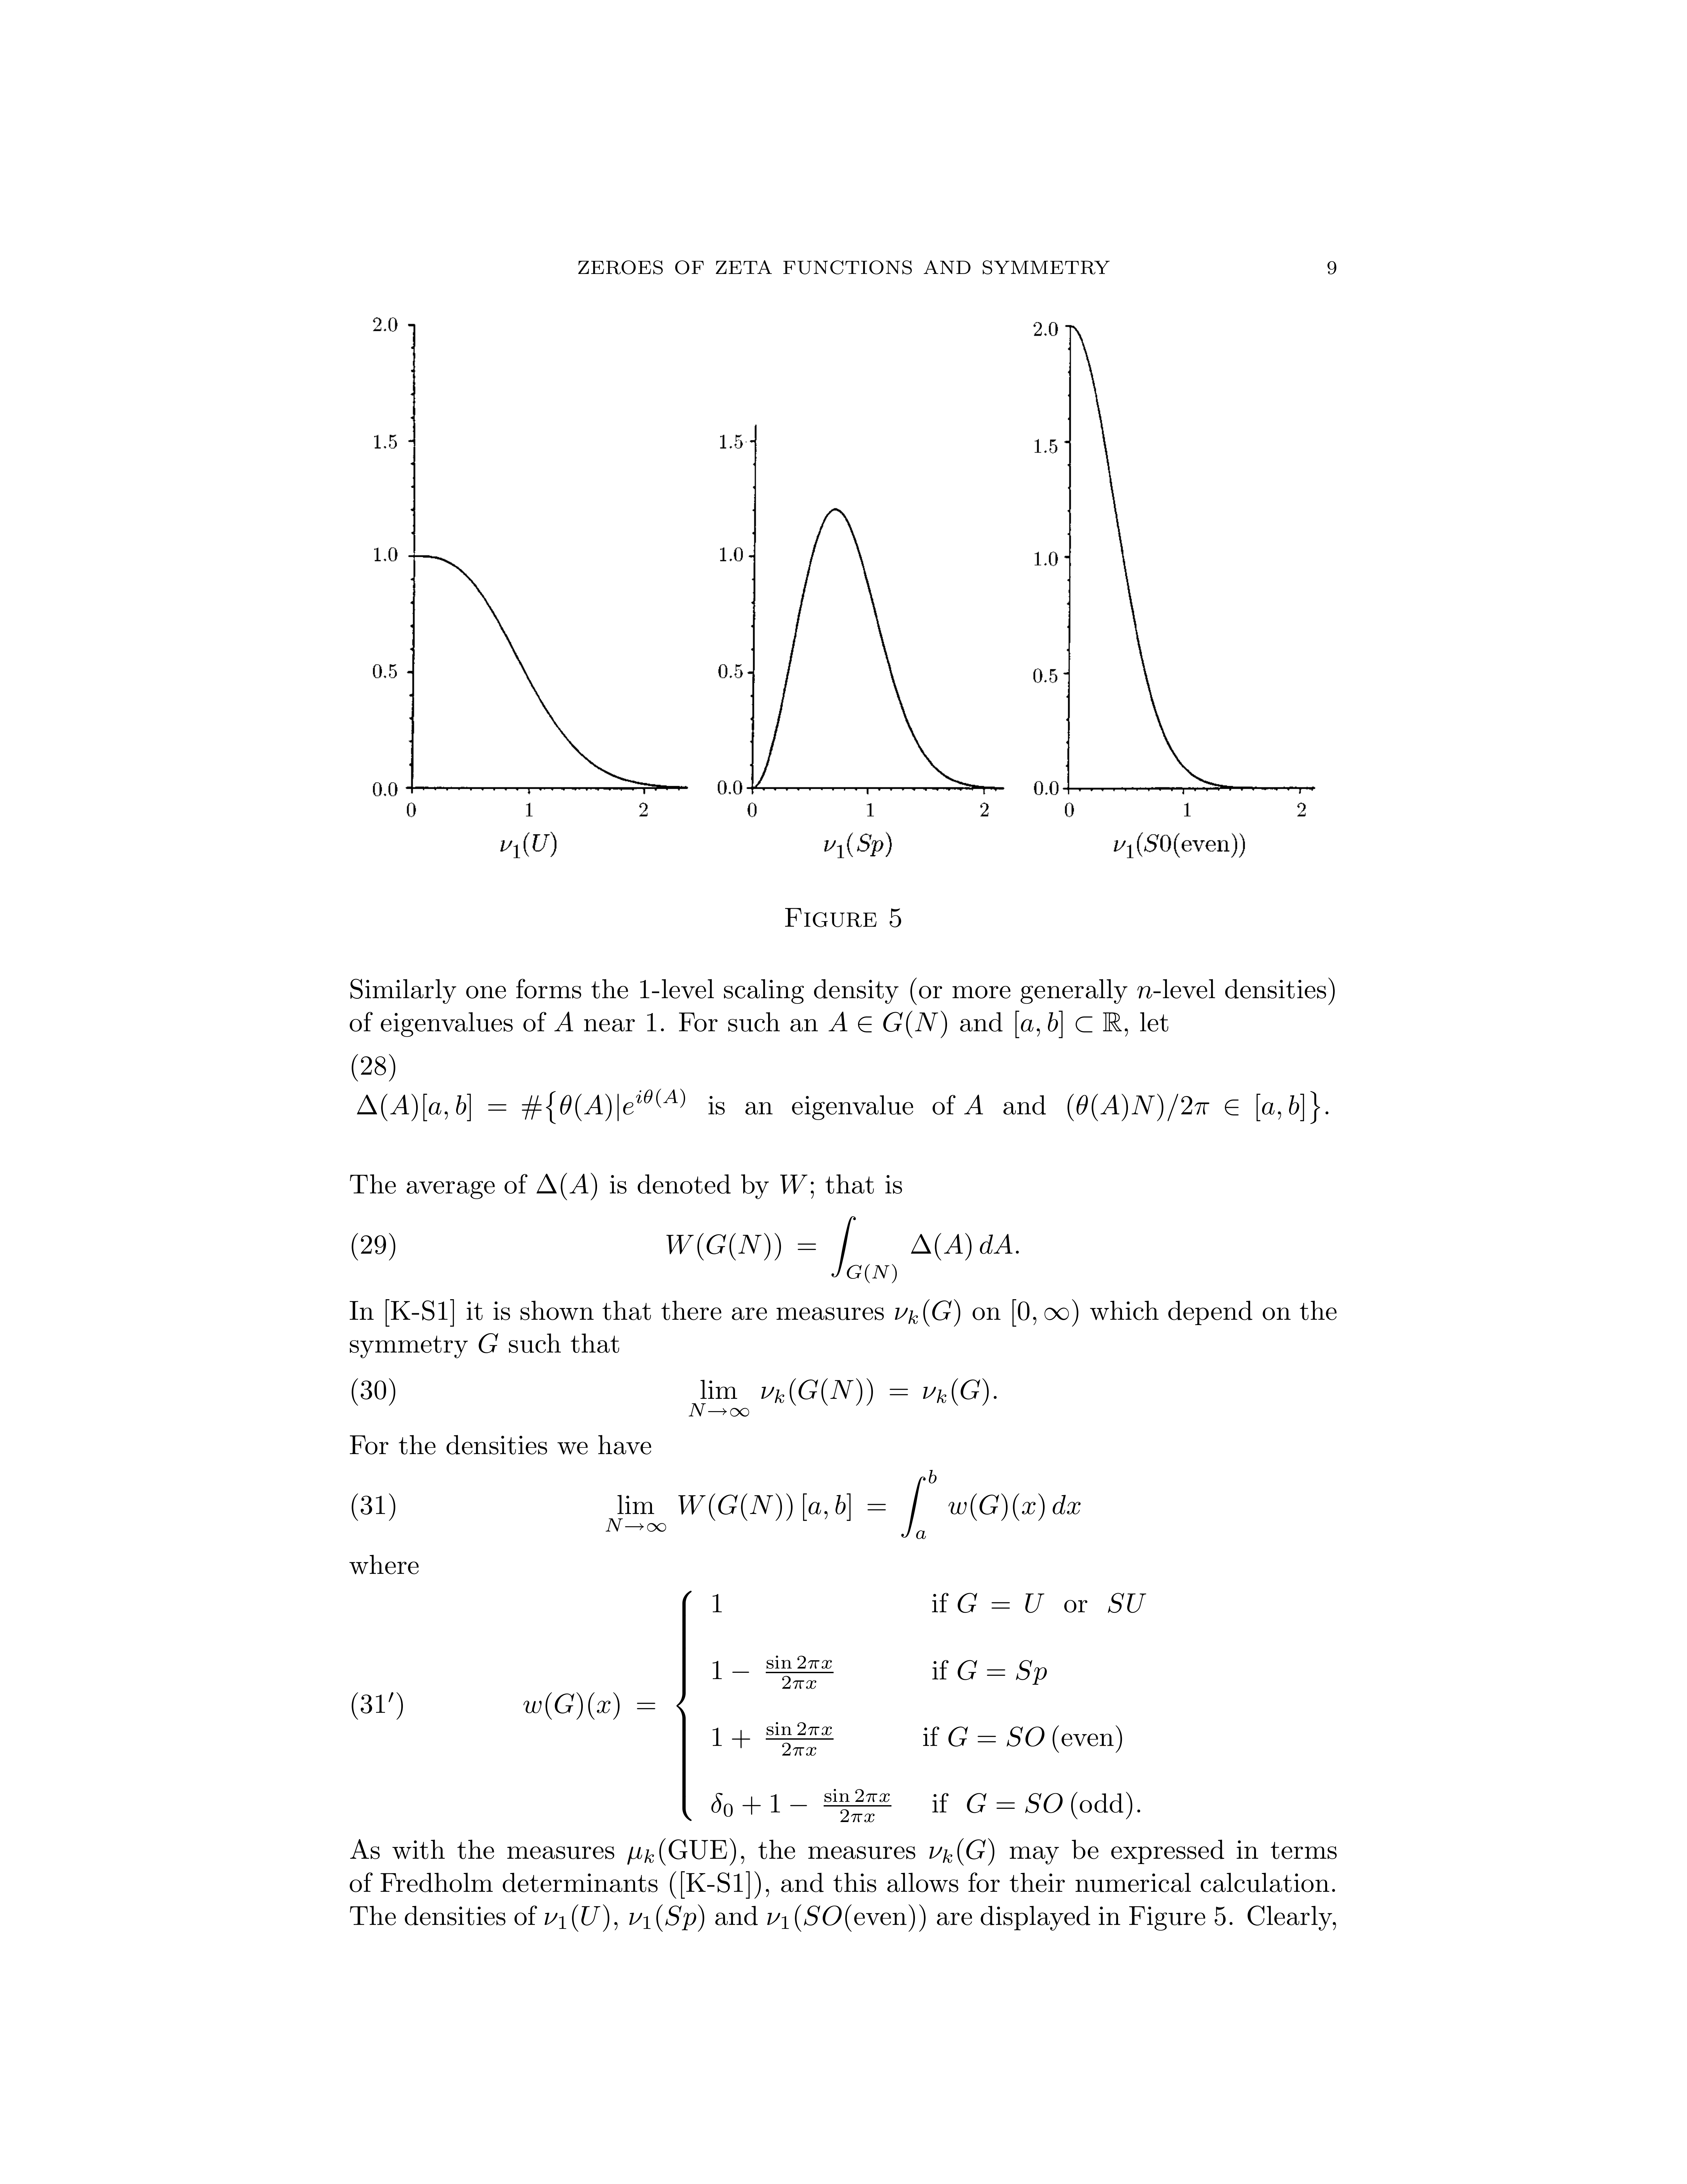maths: (523, 1590, 1147, 1822), (606, 1470, 1081, 1539), (666, 1216, 1012, 1283), (356, 1088, 684, 1124), (689, 1379, 989, 1416), (1067, 1092, 1320, 1124), (829, 1010, 946, 1037), (1015, 1010, 1122, 1037), (629, 1904, 704, 1932), (767, 1904, 842, 1932), (544, 1904, 617, 1932), (895, 1299, 960, 1326), (1012, 1299, 1077, 1326), (930, 1838, 994, 1865), (537, 1174, 597, 1200), (780, 1175, 806, 1193), (627, 1847, 654, 1865), (478, 1333, 498, 1353), (555, 1012, 572, 1032), (964, 1096, 983, 1113), (640, 980, 649, 998), (920, 1904, 925, 1932)
